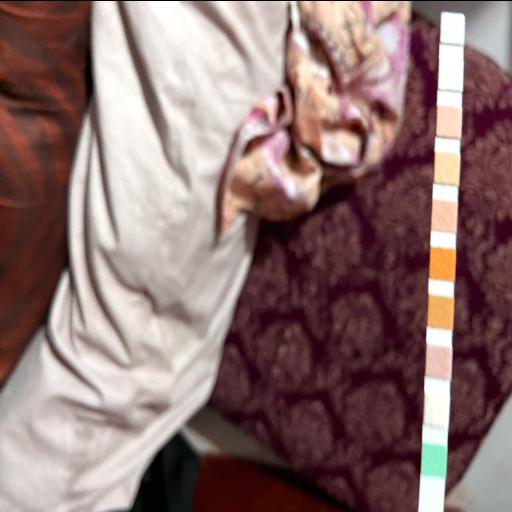Bilirubin: (426, 394, 447, 422)
Blood: (431, 248, 453, 276)
Glucose: (422, 444, 444, 474)
Ketone: (428, 348, 450, 372)
Leukocytes: (442, 13, 464, 41)
Nitrite: (439, 60, 461, 88)
Protein: (434, 152, 458, 180)
SpGravity: (428, 297, 452, 323)
Urobilinogen: (437, 106, 460, 133)
pH: (434, 201, 456, 227)
strip: (417, 11, 464, 512)
